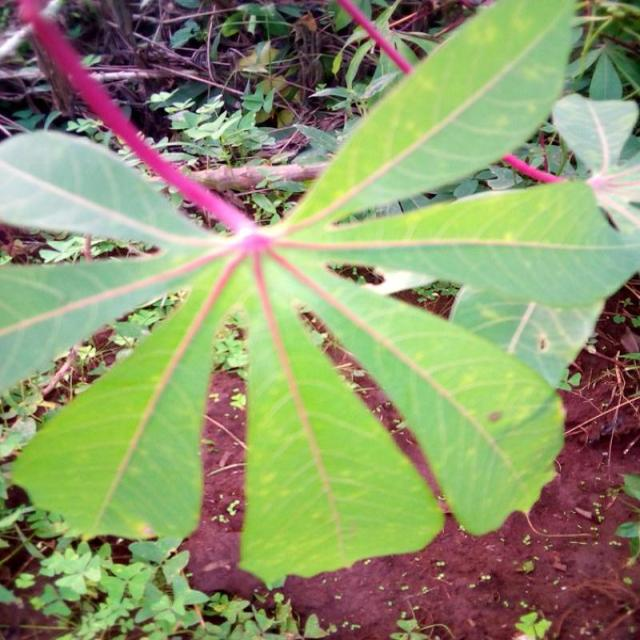cassava leaf: (2, 0, 634, 592), (283, 0, 580, 231)
